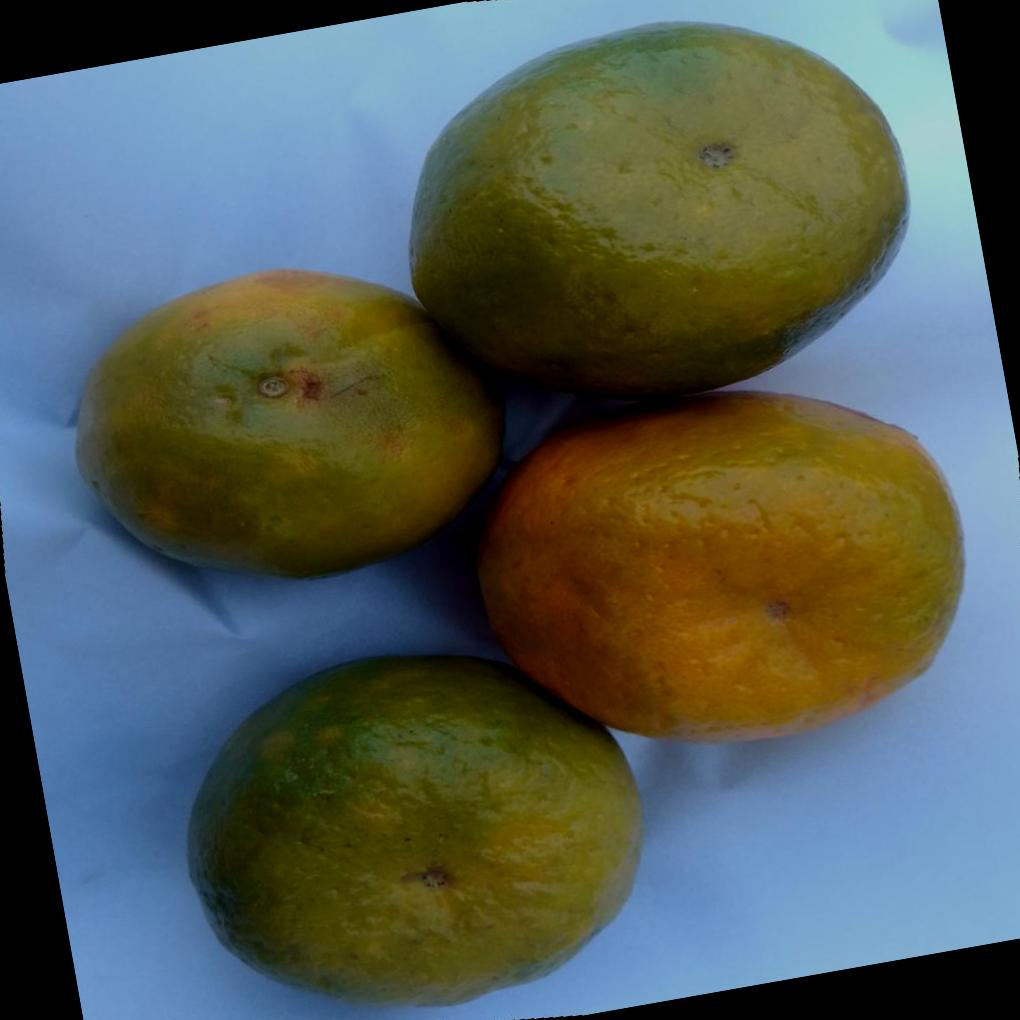FreshGuava: (71, 40, 966, 1005)
